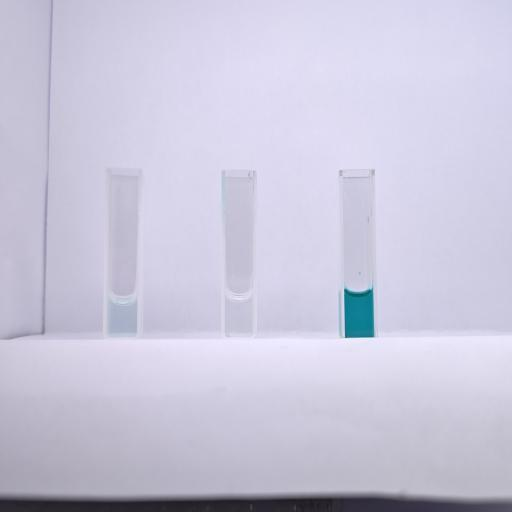cuvette: (101, 164, 146, 340), (338, 168, 379, 340), (219, 166, 259, 340)
liquid: (345, 289, 373, 334), (225, 293, 253, 336), (107, 296, 137, 336)
